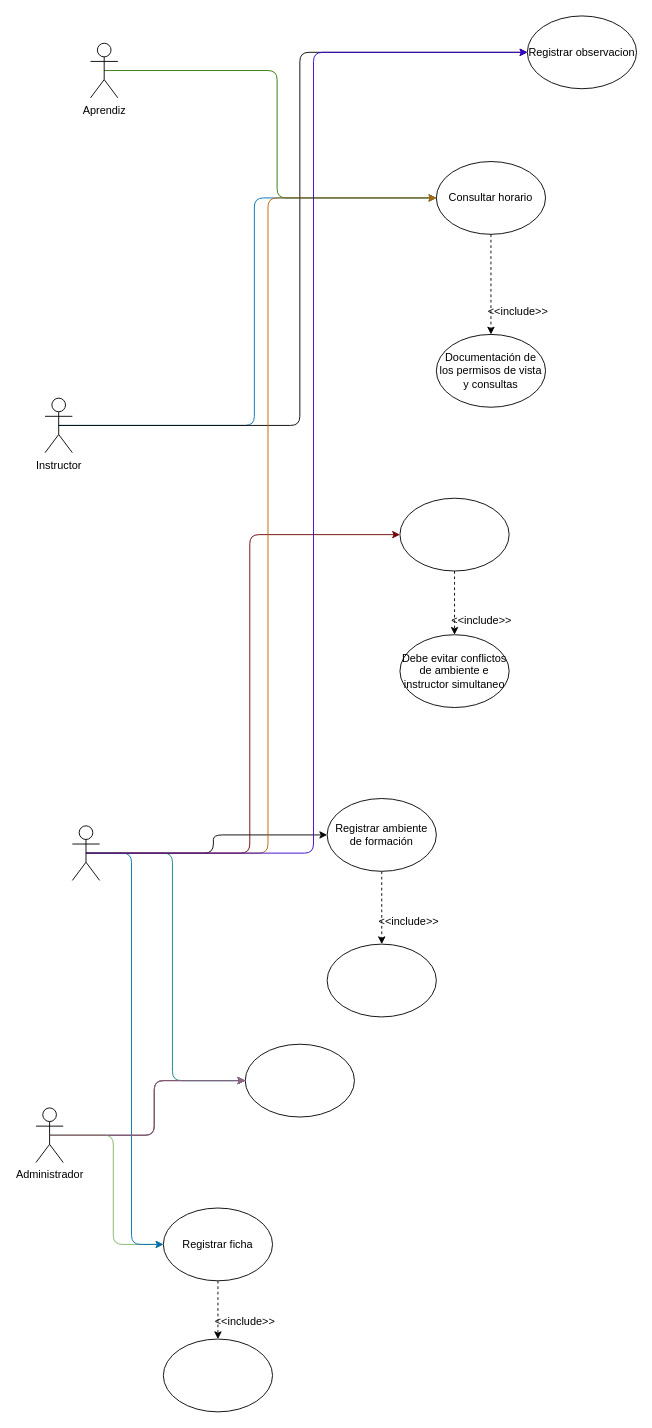
Image size: 652x1428. Some labels were removed from this diagram. The shapes that lost their labels are listed below. From the top down, each one's box as (x1, y1, x2, y2) in pixels, then its label:
(399, 497, 509, 571): Programar horario
(71, 825, 100, 880): Coordinador
(326, 943, 436, 1017): Valida capacidad, tipo y estado del ambiente
(244, 1043, 354, 1117): Gestionar instructor
(162, 1338, 273, 1412): Valida numero de aprendices y fechas de vigencia
